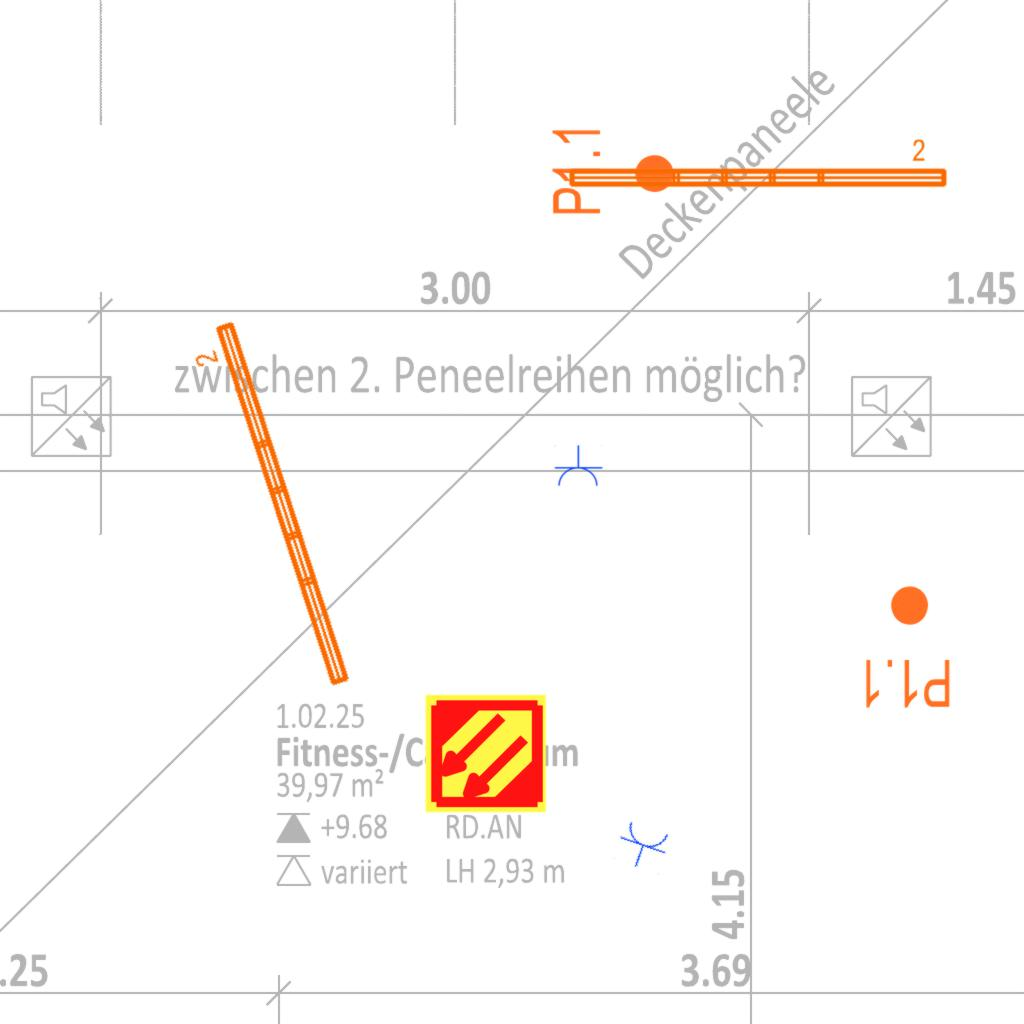ASR_Ansaugrauchmelder: (423, 691, 548, 816)
Ambulanz_Pendelleuchte_LED: (184, 315, 357, 701), (564, 137, 951, 193)
Downlight_LED_Einbauleuchten_Flur: (860, 583, 953, 711), (549, 124, 677, 217)
Schukosteckdose_einfach: (612, 818, 674, 875), (553, 445, 603, 488)
